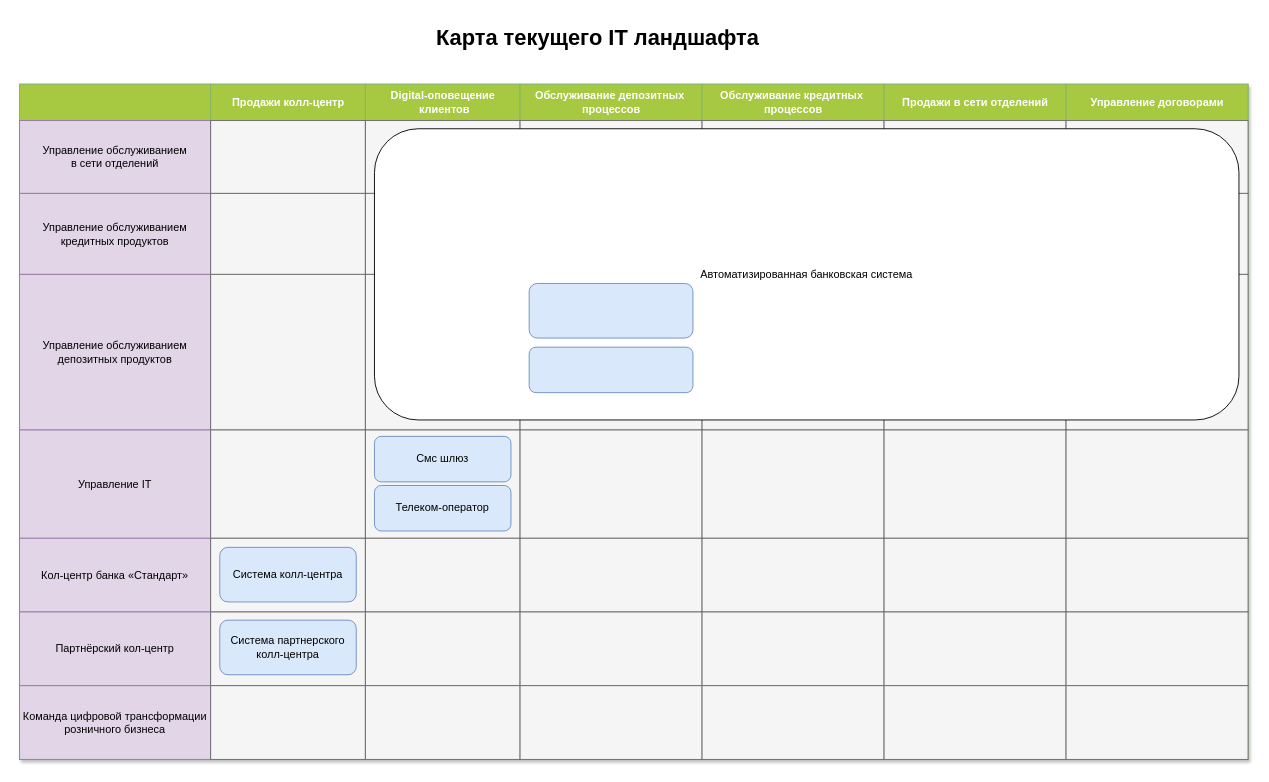
This 1269x782 diagram has some shape labels left out. Each missing label, with the centre of its shape:
"Интернет-банк" goes at point 610,310.
"Сайт" goes at point 610,369.
